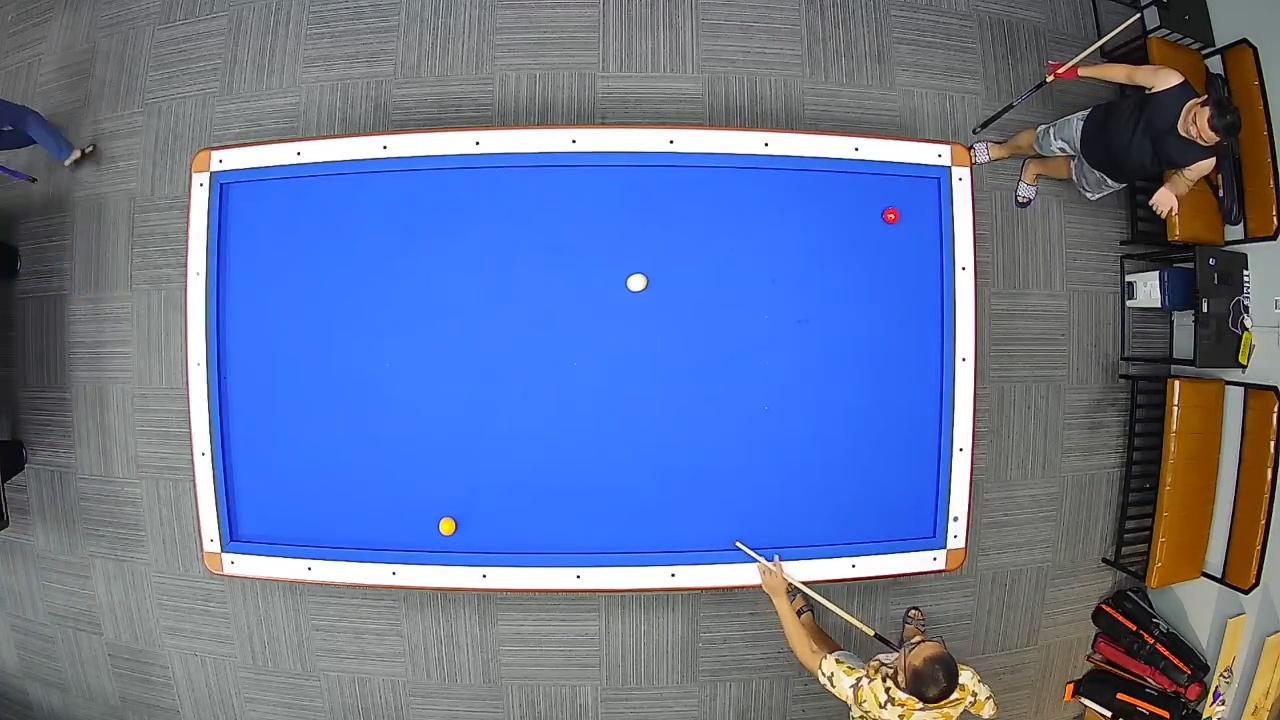Red: (882, 204, 902, 228)
White: (624, 270, 650, 294)
Yellow: (436, 513, 457, 538)
